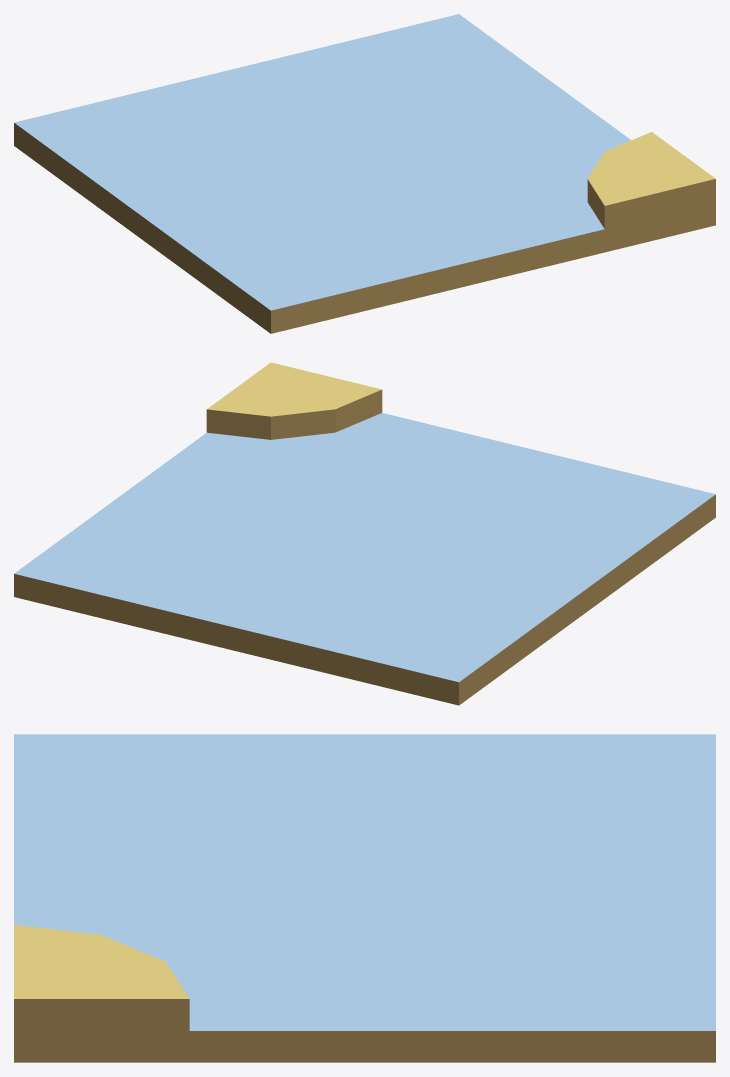
File: Terrain_Modular_Tiles_Sand_Dirt_Water_Edge_Corner_Inner_01.fbx
3 views of the same model, one above another, from view 1: azimuth 30°, elevation 25°; view 2: azimuth 150°, elevation 25°; view 3: azimuth 270°, elevation 25° (orthographic). The views are drawn at different scales.
Parts seen in each view (by area): view 1: Terrain_Modular_Tiles_Sand_Dirt_Water_Edge_Corner_Inner_01; view 2: Terrain_Modular_Tiles_Sand_Dirt_Water_Edge_Corner_Inner_01; view 3: Terrain_Modular_Tiles_Sand_Dirt_Water_Edge_Corner_Inner_01.
Boxes of the visible parts, x1=… form: Terrain_Modular_Tiles_Sand_Dirt_Water_Edge_Corner_Inner_01: x1=14, y1=14, x2=715, y2=333; Terrain_Modular_Tiles_Sand_Dirt_Water_Edge_Corner_Inner_01: x1=14, y1=362, x2=715, y2=705; Terrain_Modular_Tiles_Sand_Dirt_Water_Edge_Corner_Inner_01: x1=14, y1=734, x2=715, y2=1062.
Size of the model in its own units: 118 by 11.81 by 118.
